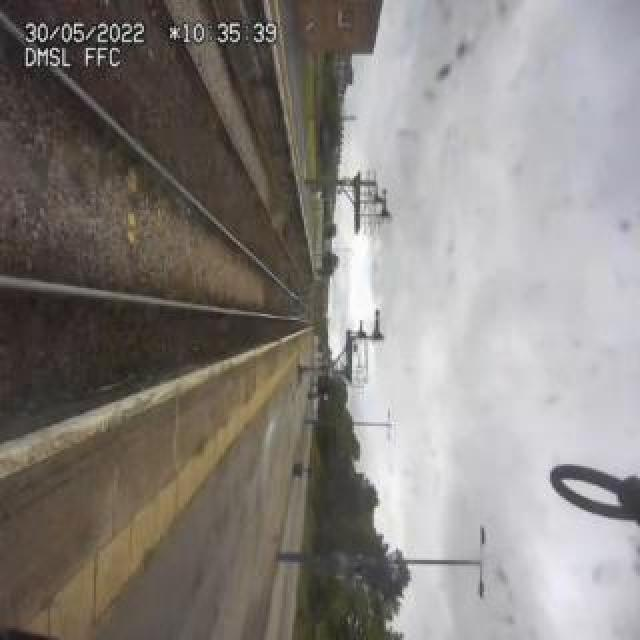Station-Lights-Off: (476, 524, 488, 550)
